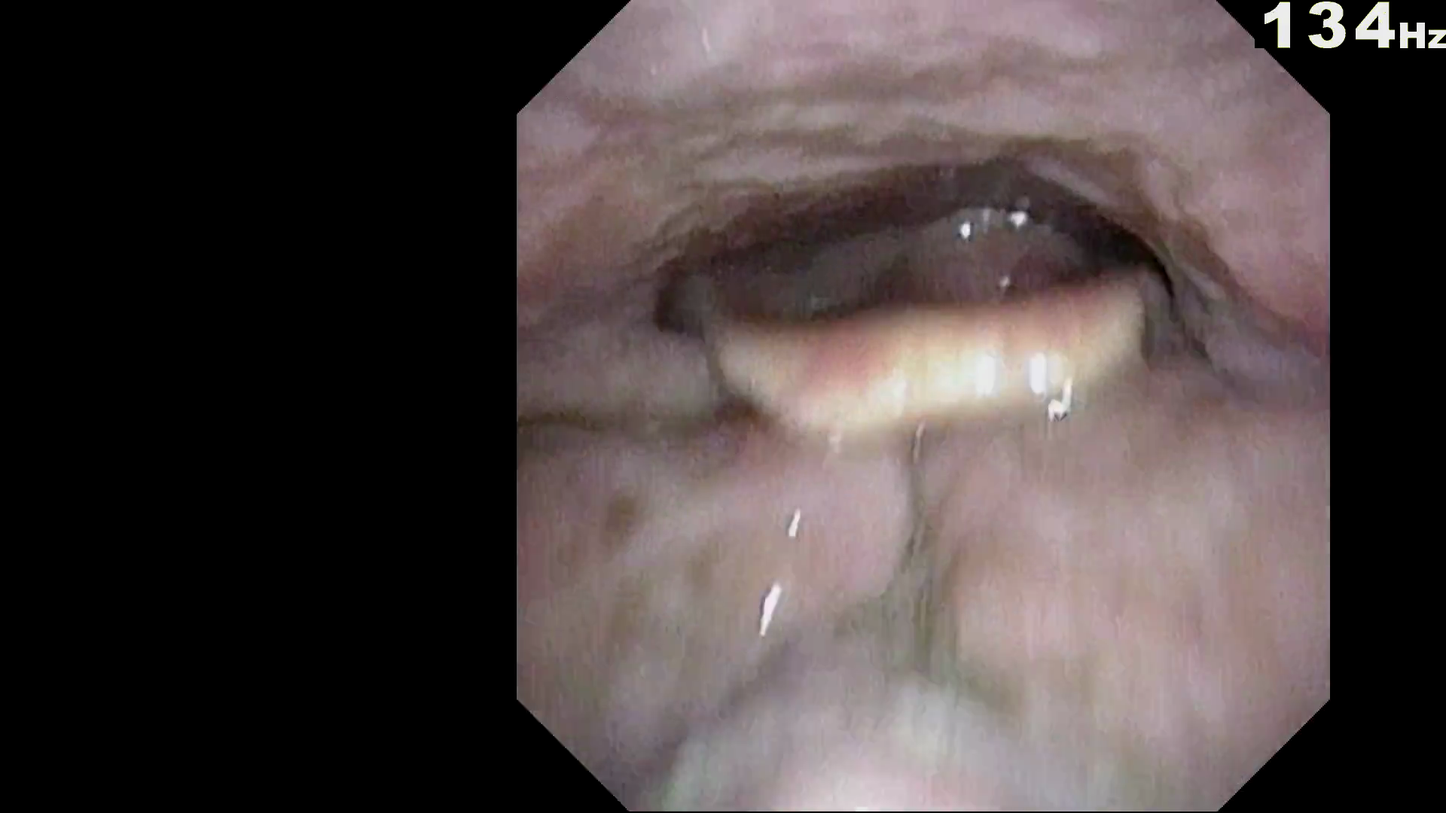epiglottis: (700, 348, 1252, 520)
